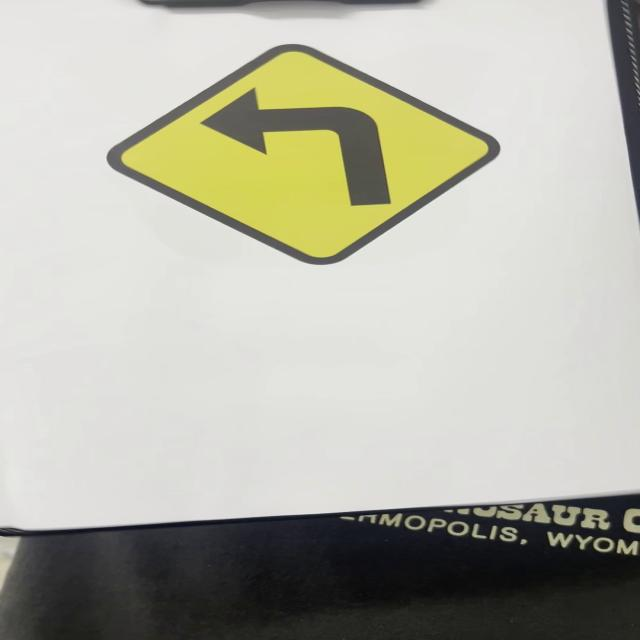left: (109, 42, 504, 265)
